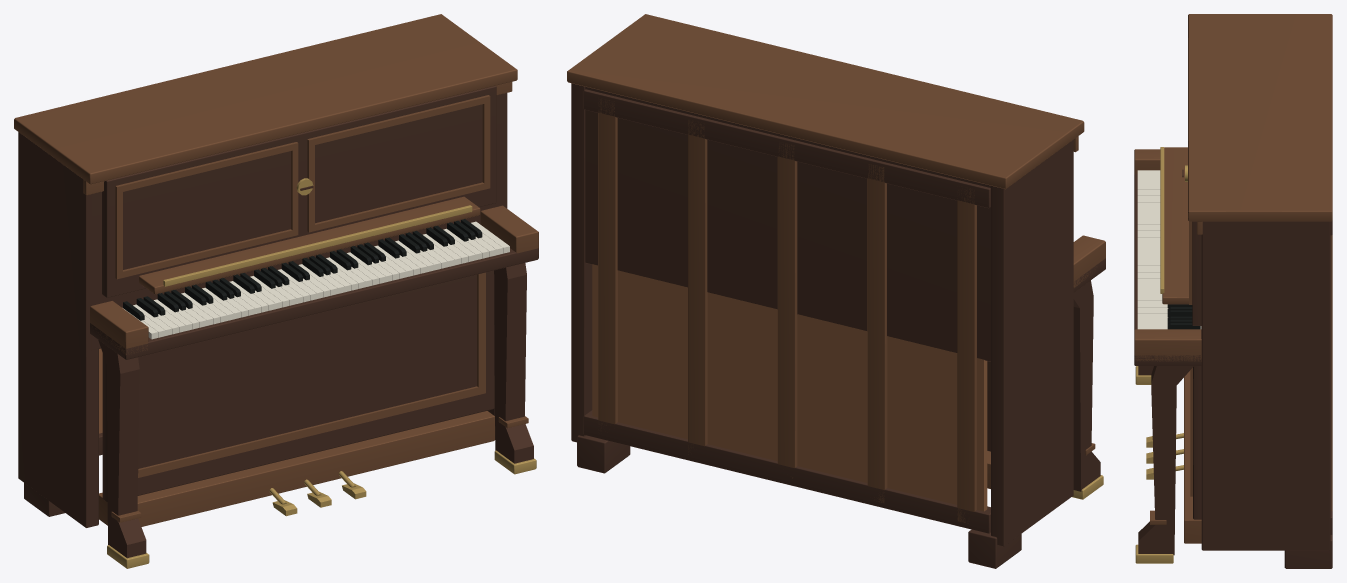
The model's file is rpg-mansion-upright-piano-01.glb.
3 views of the same model, side by side, from view 1: azimuth 30°, elevation 25°; view 2: azimuth 150°, elevation 25°; view 3: azimuth 270°, elevation 25° (orthographic). The views are drawn at different scales.
Parts seen in each view (by area): view 1: rpg-mansion-upright-piano-01; view 2: rpg-mansion-upright-piano-01; view 3: rpg-mansion-upright-piano-01.
Boxes of the visible parts, x1,y1,x2,y2 form: rpg-mansion-upright-piano-01: (14, 14, 538, 568); rpg-mansion-upright-piano-01: (567, 14, 1105, 568); rpg-mansion-upright-piano-01: (1134, 14, 1332, 568).
Size of the model in its own units: 1.46 by 1.25 by 0.62.
